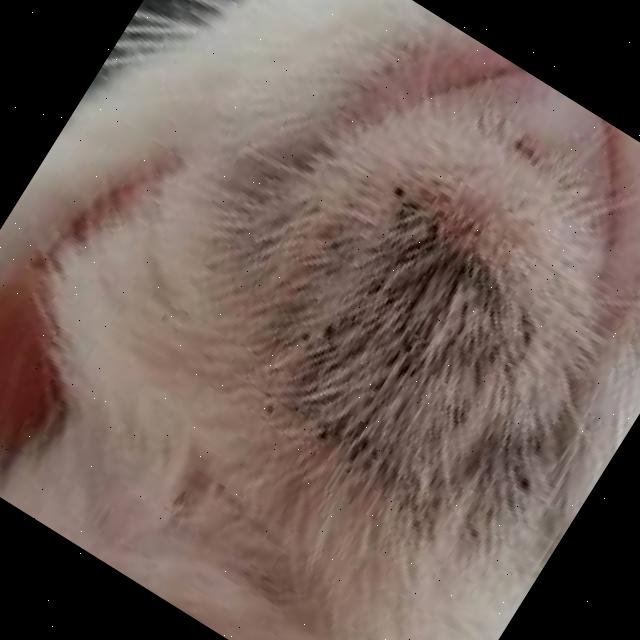cat-dermatitis: (239, 169, 573, 513), (461, 404, 586, 538)
